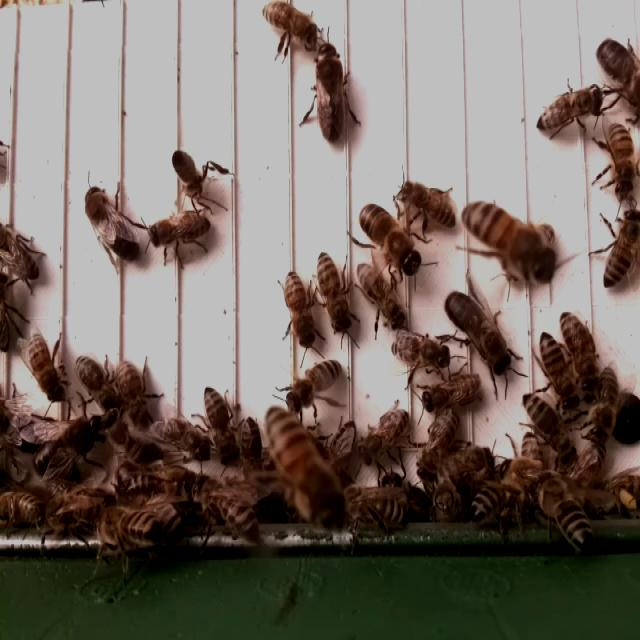Drone: (441, 285, 513, 380), (357, 200, 425, 278), (82, 180, 143, 266), (311, 38, 350, 146)
Worker: (461, 199, 549, 280), (558, 304, 600, 396), (522, 388, 573, 463), (355, 261, 408, 333), (283, 356, 345, 417), (534, 82, 604, 135), (415, 408, 462, 484), (599, 204, 640, 291), (20, 330, 68, 404), (315, 250, 354, 341), (115, 352, 158, 432), (357, 407, 412, 468), (538, 330, 578, 411), (202, 379, 238, 468), (399, 175, 459, 228), (72, 351, 119, 418), (282, 266, 317, 353), (419, 369, 485, 415), (147, 211, 218, 251), (604, 119, 638, 202), (389, 331, 453, 372)
